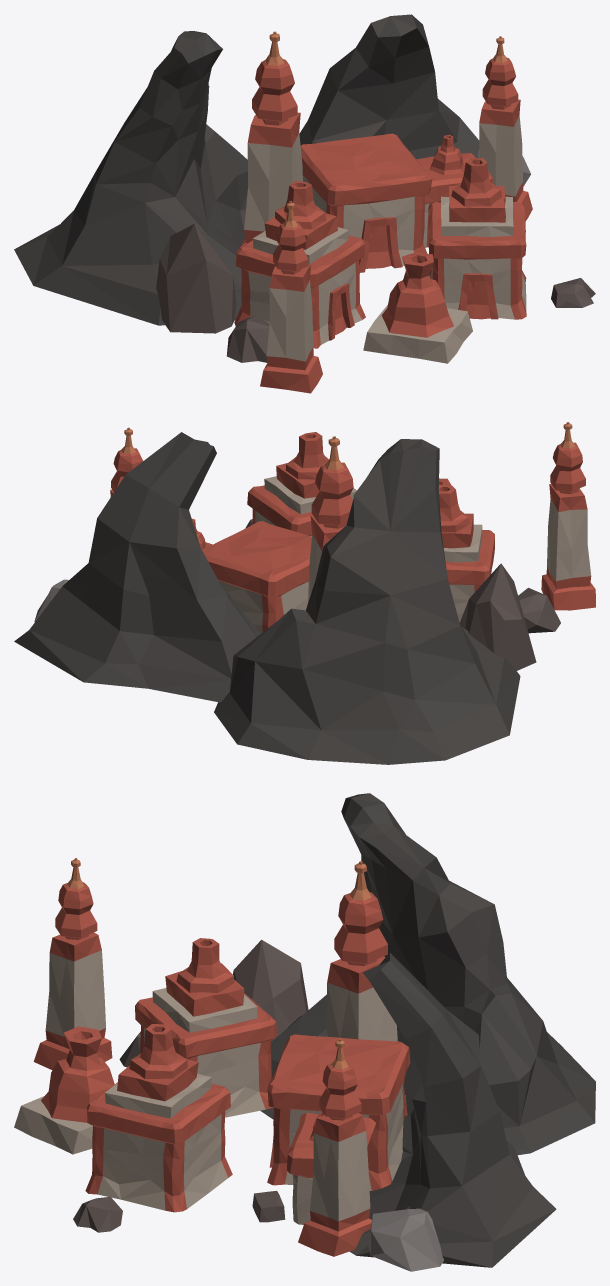
File: townDropstone1.fbx
3 renders of one model, top to bottom at view 1: azimuth 30°, elevation 25°; view 2: azimuth 150°, elevation 25°; view 3: azimuth 270°, elevation 25°, orthographic. The views are drawn at different scales.
Parts seen in each view (by area): view 1: townDropstone1; view 2: townDropstone1; view 3: townDropstone1.
Boxes of the visible parts, left/top/right/bottom form: townDropstone1: left=14, top=14, right=595, bottom=393; townDropstone1: left=14, top=422, right=595, bottom=764; townDropstone1: left=14, top=793, right=595, bottom=1271.
Bounding box in the file's own units: 5.97 × 2.95 × 5.46.
1 material, 1 textured.
